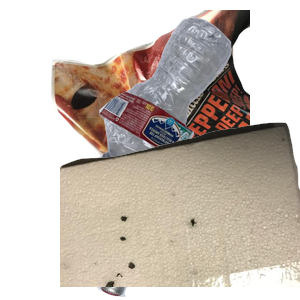glass: (93, 143, 284, 300)
paper: (49, 10, 289, 190)
plastic: (96, 15, 300, 184)
trash: (60, 120, 300, 300)
